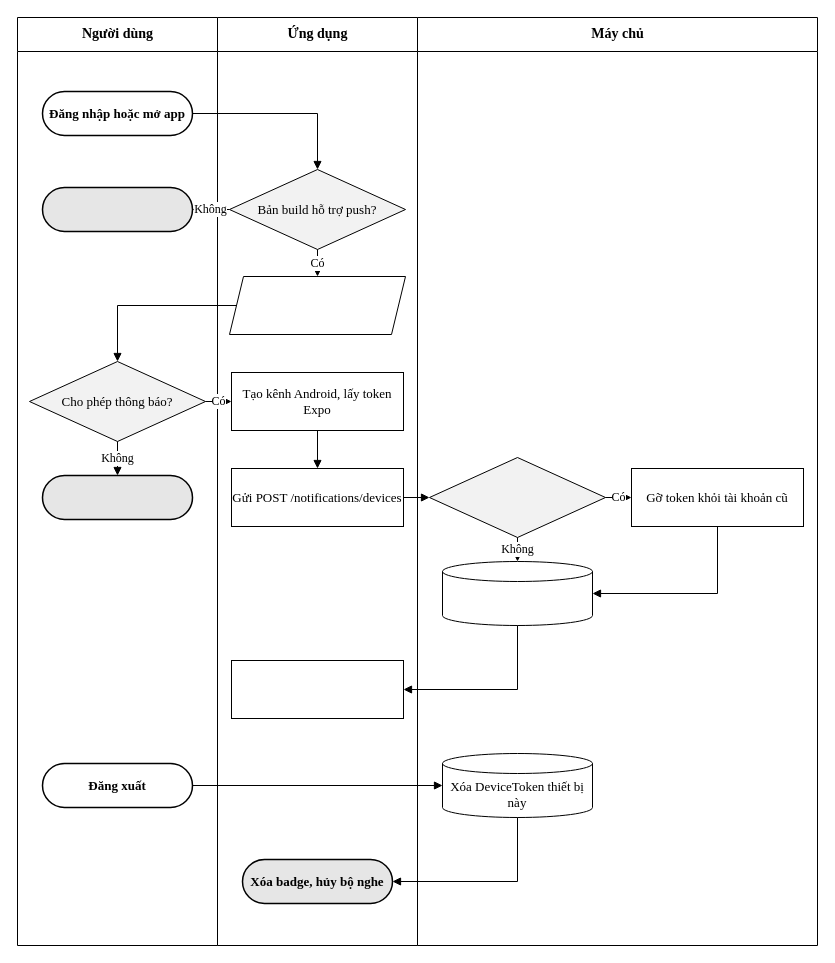
The diagram is 835 pixels wide and 963 high, and some of its shapes have lost their labels. Each missing label, with the centre of its shape:
"Chỉ nhận thông báo trong app" goes at (117,209).
"Ghi nhớ, nhắc lại trong Cài đặt" goes at (117,497).
"Gắn bộ nghe bấm thông báo" goes at (317,689).
"Màn giải thích lợi ích" goes at (317,305).
"Token của tài khoản khác?" goes at (517,497).
"Upsert DeviceToken, lastSeenAt" goes at (517,593).
